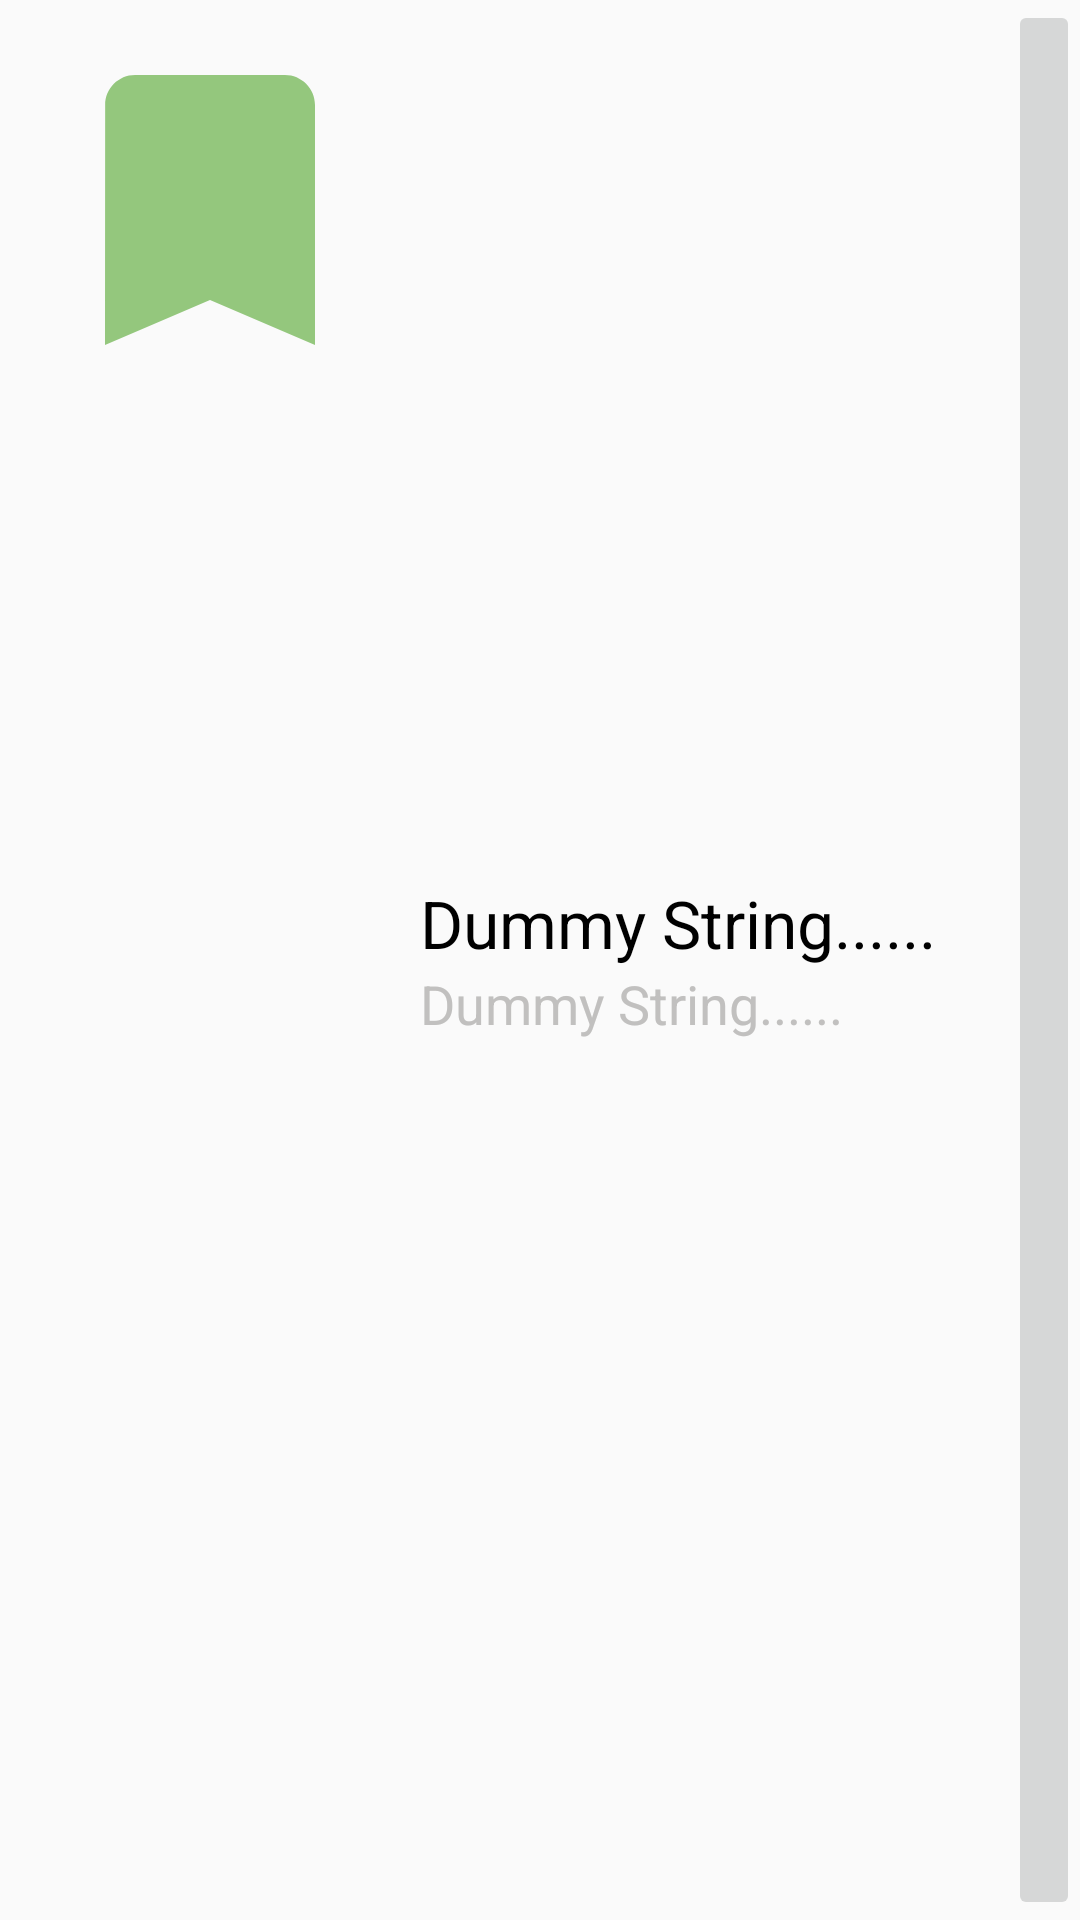

Point at icon controls on the screen. Image size 1080 x 1920, points as (x=x, y=y).
bookmark: (x=210, y=210)
